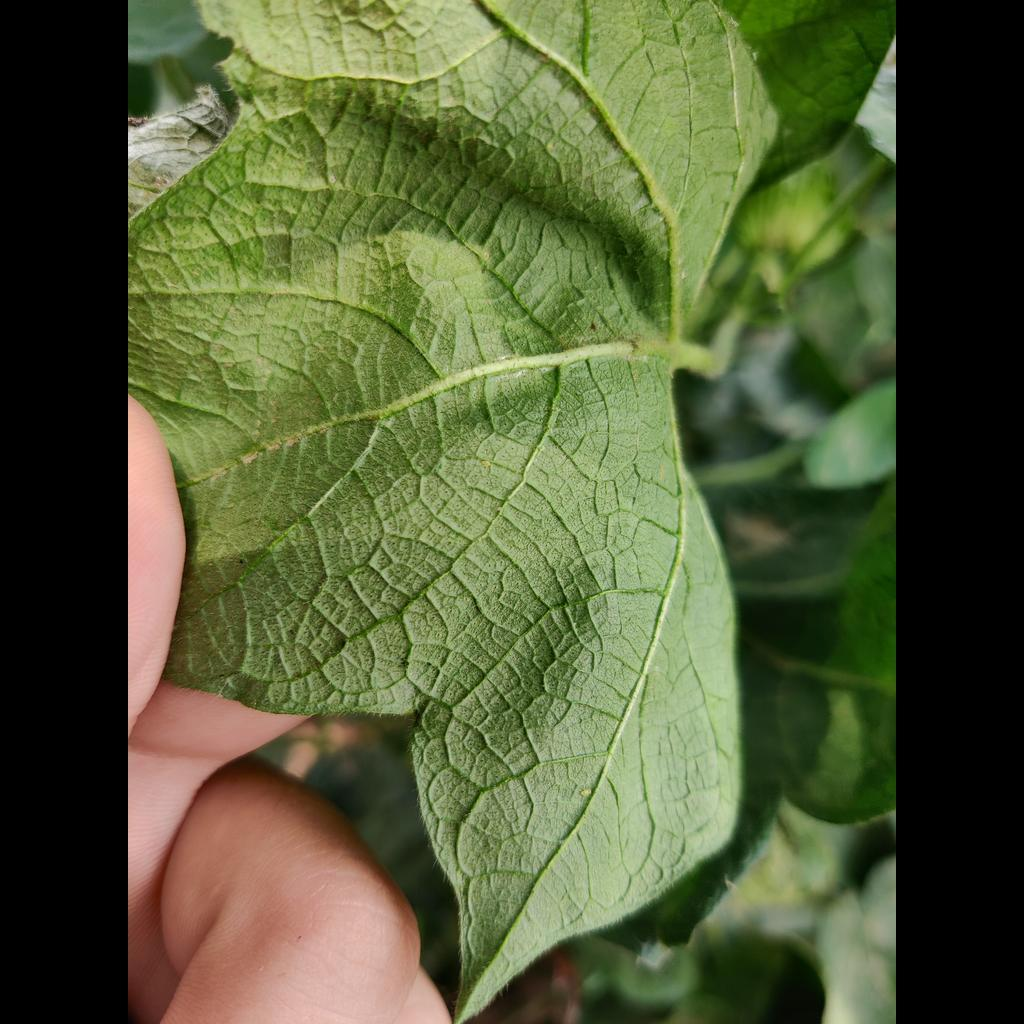nymph: (580, 788, 591, 797), (679, 270, 686, 280), (329, 175, 336, 184)
